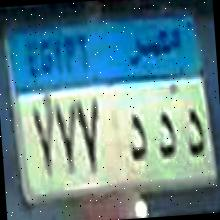7: (77, 98, 105, 175), (32, 102, 58, 179), (56, 98, 80, 174)
daal: (124, 110, 152, 170), (152, 109, 179, 163), (184, 104, 207, 160)
